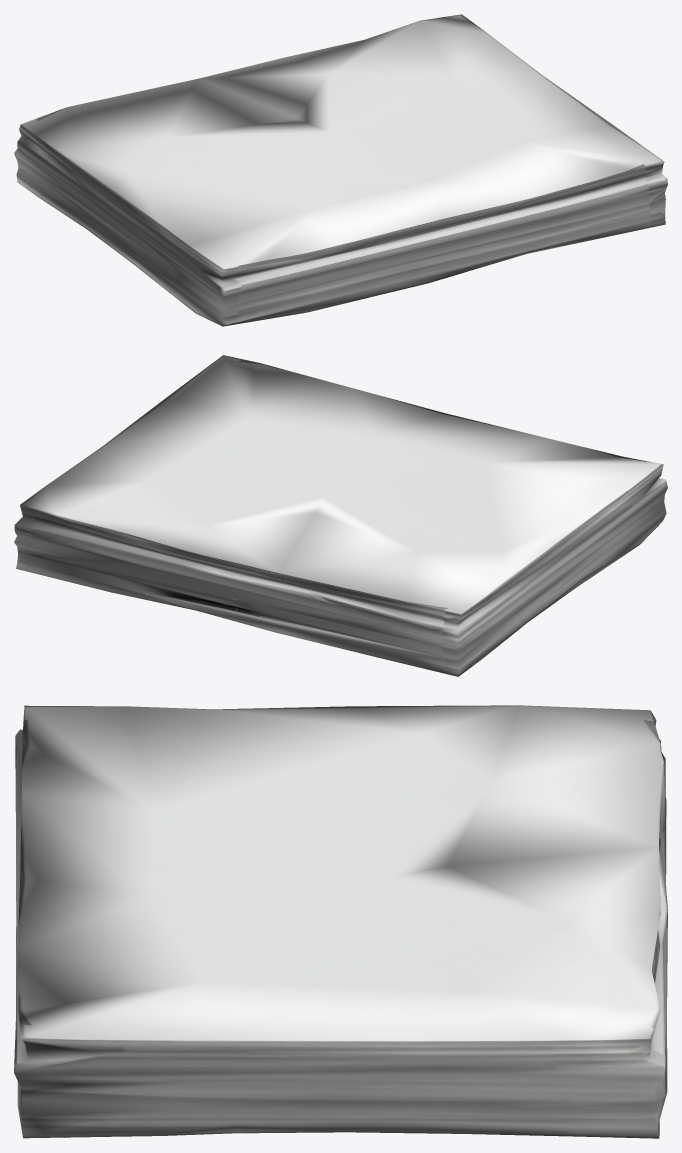
The model's file is Meshy_AI_kağit_0119183821_texture.fbx.
3 renders of one model, top to bottom at view 1: azimuth 30°, elevation 25°; view 2: azimuth 150°, elevation 25°; view 3: azimuth 270°, elevation 25°, orthographic. The views are drawn at different scales.
Parts seen in each view (by area): view 1: Mesh_0; view 2: Mesh_0; view 3: Mesh_0.
Boxes of the visible parts, x1=… form: Mesh_0: x1=14, y1=14, x2=667, y2=326; Mesh_0: x1=14, y1=355, x2=667, y2=676; Mesh_0: x1=14, y1=705, x2=667, y2=1138.
Bounding box in the file's own units: 193 × 26.35 × 158.
1 material, 1 textured.
